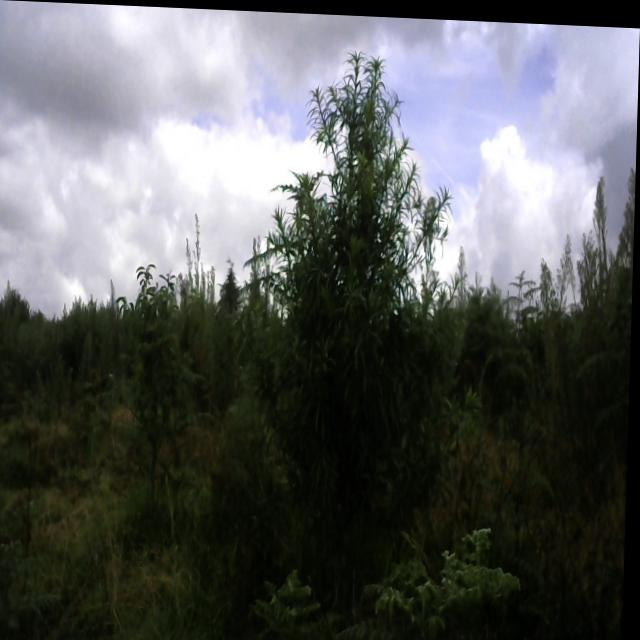Podocarpus falcatus: (249, 45, 470, 498)
other: (115, 260, 209, 479)
